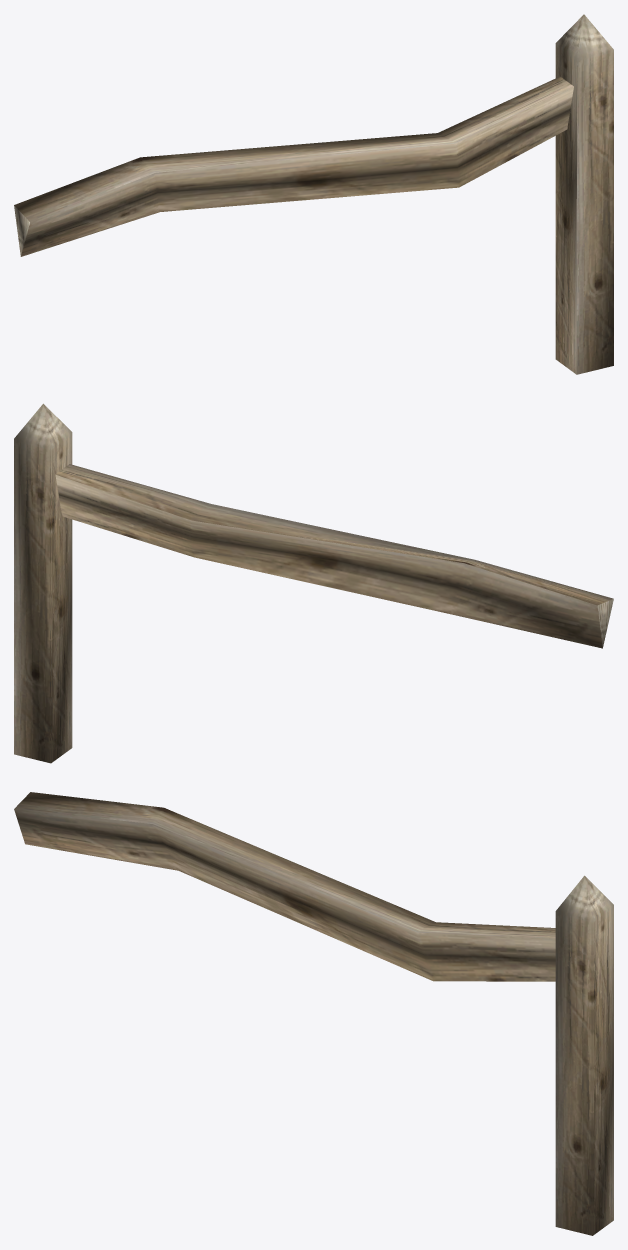
File: duskwoodfencetop.obj
3 views of the same model, one above another, from view 1: azimuth 30°, elevation 25°; view 2: azimuth 150°, elevation 25°; view 3: azimuth 330°, elevation 25° (orthographic).
Bounding box in the file's own units: 4.3 × 2.46 × 0.3993.
Materials: 1 (1 with a texture image).
